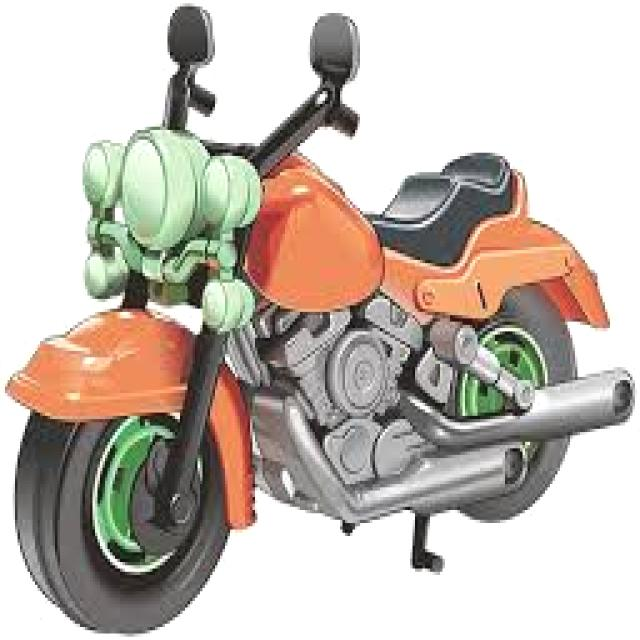MOTORCYCLE: (26, 12, 632, 630)
